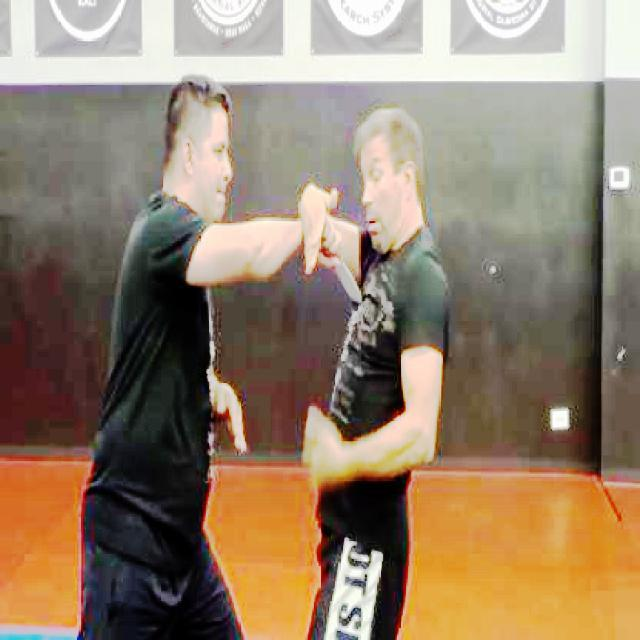Knife: (326, 257, 365, 309)
